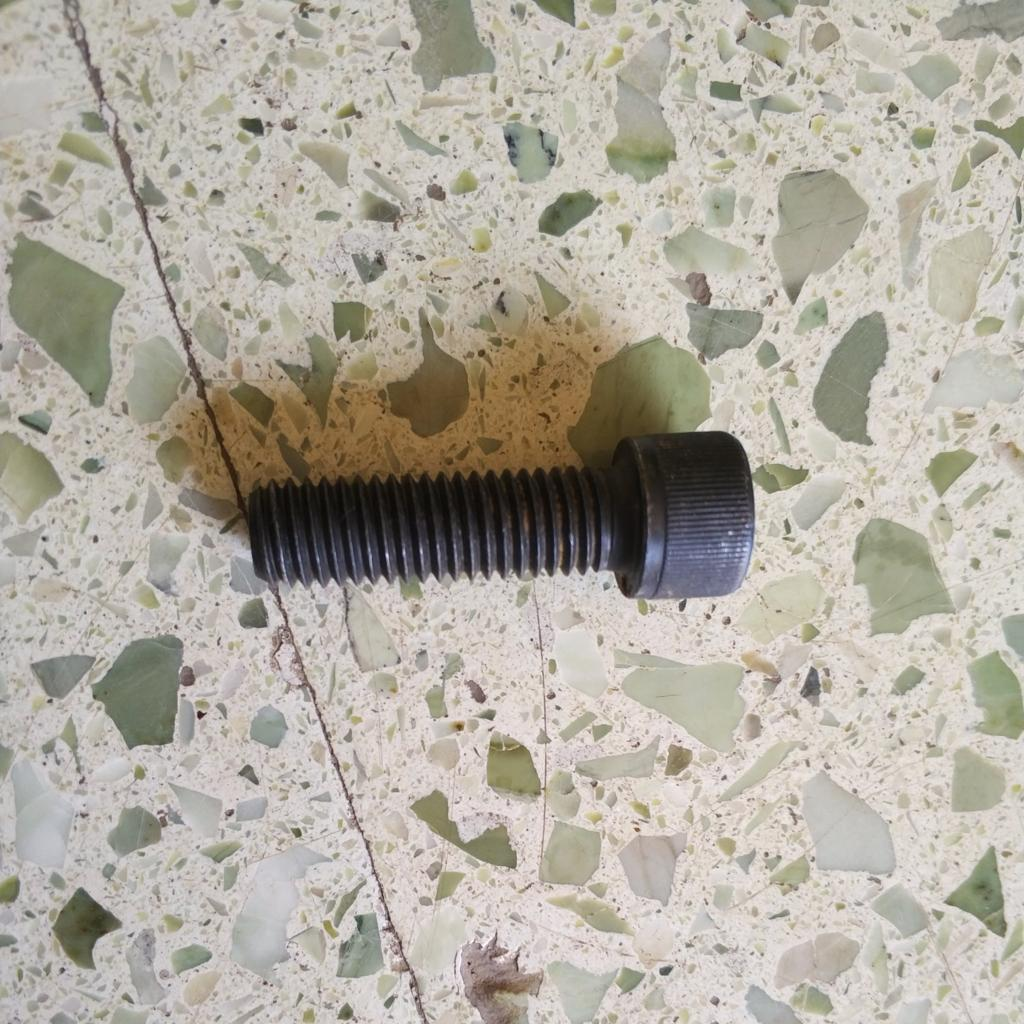screwtype1black: (242, 428, 760, 601)
